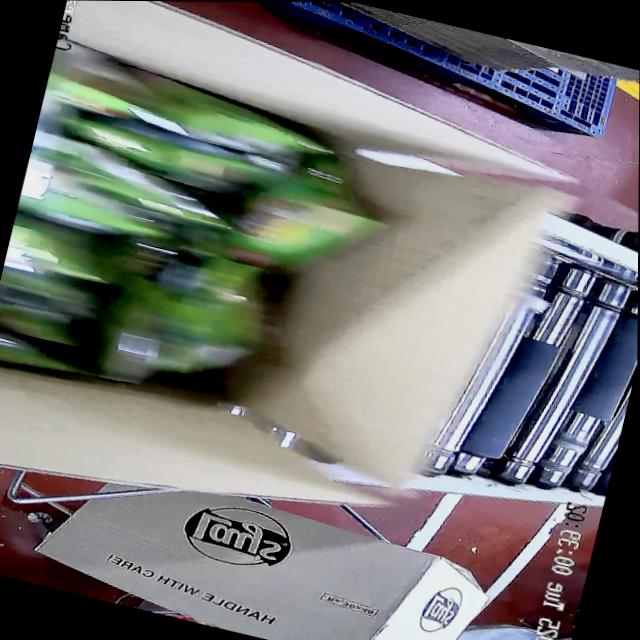YOGURT_HERB: (0, 67, 345, 425)
